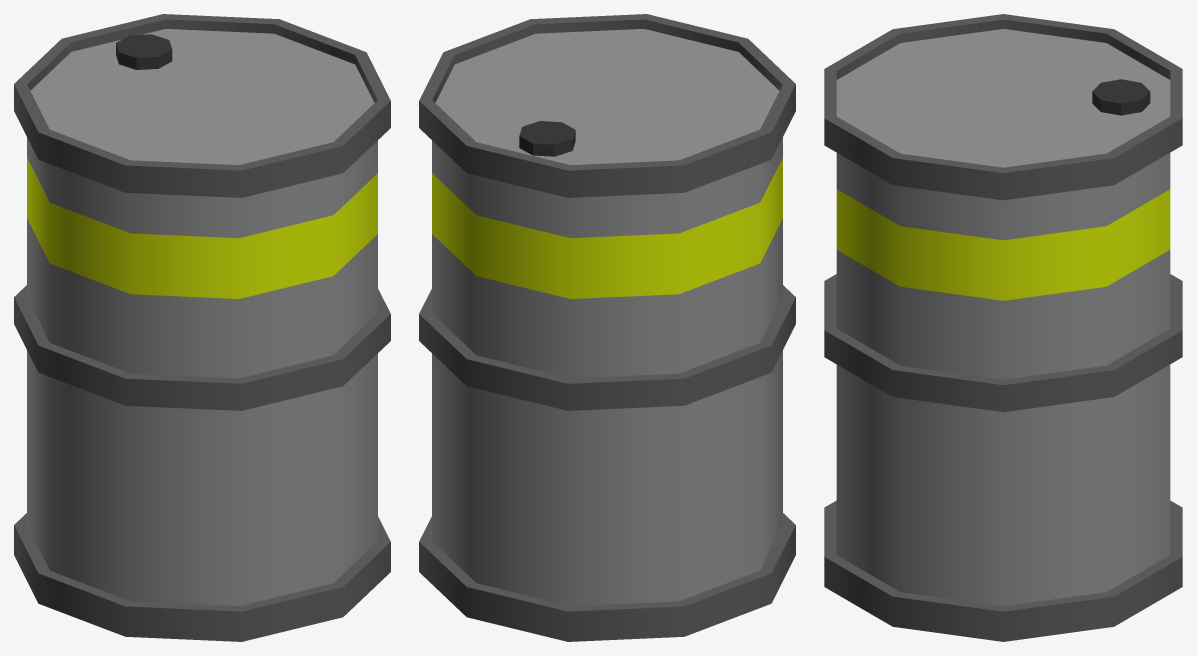
File: FuelBarrel.fbx
The picture shows the model from 3 angles, left to right: view 1: azimuth 30°, elevation 25°; view 2: azimuth 150°, elevation 25°; view 3: azimuth 270°, elevation 25°; orthographic projection.
Visible parts, largest first — view 1: FuelBarrel; view 2: FuelBarrel; view 3: FuelBarrel.
Part boxes in pixels (x1,y1,x2,y2): FuelBarrel: (14,14,390,641); FuelBarrel: (419,14,795,641); FuelBarrel: (824,14,1182,641).
Bounding box in the file's own units: 146 × 201 × 139.
